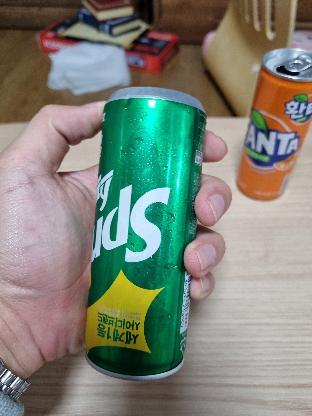Can: (80, 86, 218, 386)
